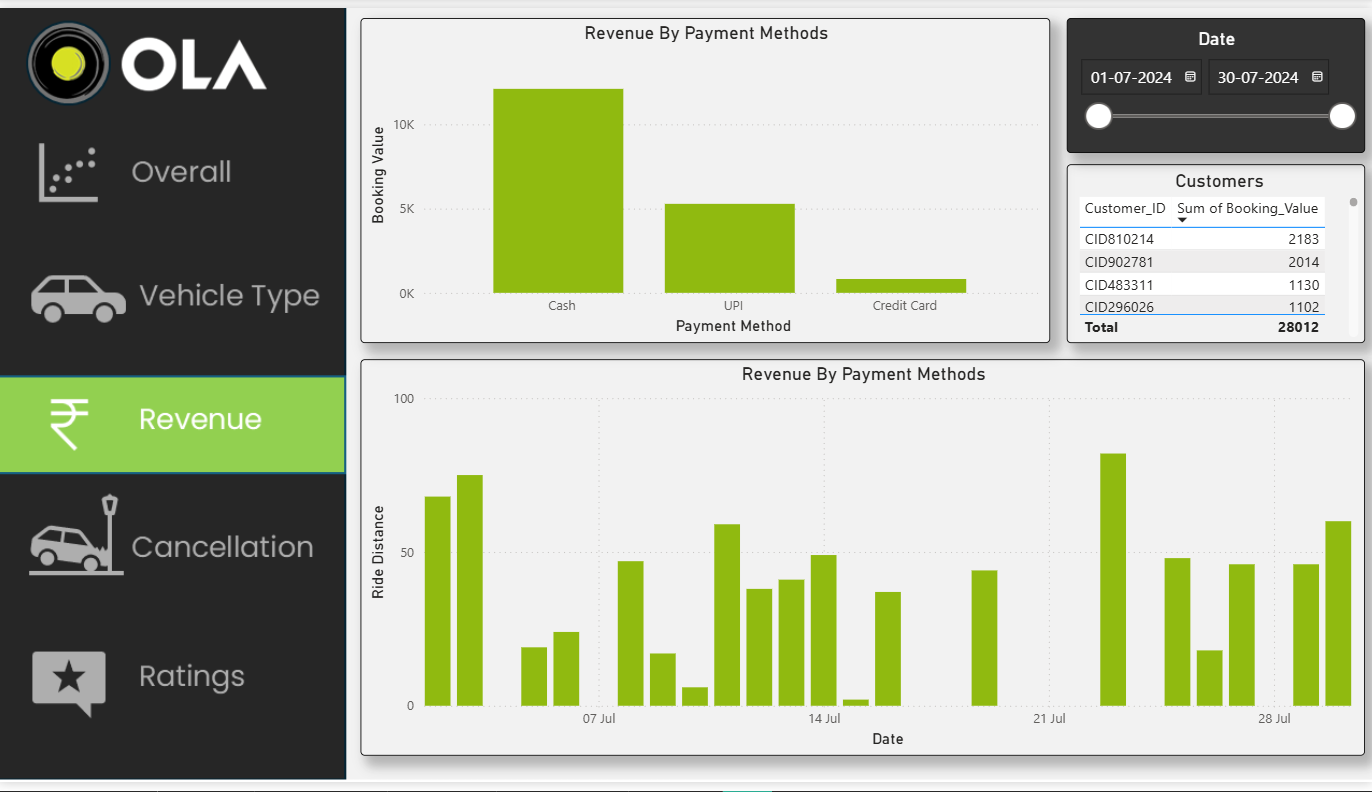

Layout of this report page (visuals, bound fields, positions):
{"tool":"powerbi","page":{"name":"Revenue","canvas":[1280,720],"ordinal":2},"visuals":[{"type":"actionButton","box":[0,110.4,320.2,92],"z":0},{"type":"actionButton","box":[0,219.6,320.2,92],"z":1000},{"type":"actionButton","box":[0,446.6,320.2,92],"z":2000},{"type":"actionButton","box":[0,584.1,320.2,92],"z":3000},{"type":"columnChart","title":"Revenue By Payment Methods","fields":{"Y":["Sum(Bookings-20000-Rows.Booking_Value)"],"Category":["Bookings-20000-Rows.Payment_Method"]},"box":[337,9.9,642,302.5],"z":4000},{"type":"columnChart","title":"Revenue By Payment Methods","fields":{"Y":["Sum(Bookings-20000-Rows.Ride_Distance)"],"Category":["Bookings-20000-Rows.Date"]},"box":[337,327.2,934.6,369.1],"z":5000},{"type":"slicer","title":"Date","fields":{"Values":["Bookings-20000-Rows.Date"]},"box":[993.8,9.9,277.8,125.9],"z":6000},{"type":"tableEx","title":"Customers","fields":{"Values":["Bookings-20000-Rows.Customer_ID","Sum(Bookings-20000-Rows.Booking_Value)"]},"box":[993.8,145.7,277.8,166.7],"z":7000}]}

Visuals, with their boxes on the page's 1280x720 design canvas (x1, y1, x2, y2). These are canvas units, not pixel positions in the 1372x792 screenshot, which may show the page scaled, cropped or inside an application window:
actionButton: [left=0, top=110, right=320, bottom=202]
actionButton: [left=0, top=220, right=320, bottom=312]
actionButton: [left=0, top=447, right=320, bottom=539]
actionButton: [left=0, top=584, right=320, bottom=676]
"Revenue By Payment Methods" columnChart: [left=337, top=10, right=979, bottom=312]
"Revenue By Payment Methods" columnChart: [left=337, top=327, right=1272, bottom=696]
"Date" slicer: [left=994, top=10, right=1272, bottom=136]
"Customers" tableEx: [left=994, top=146, right=1272, bottom=312]
